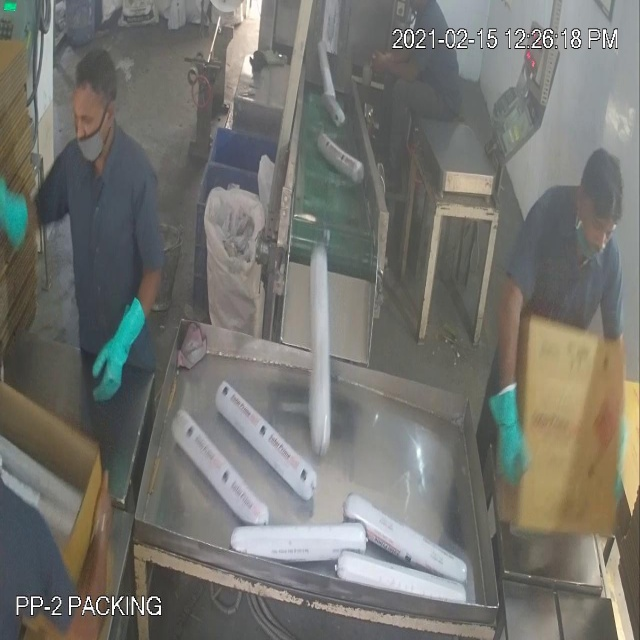Guantes: (75, 295, 155, 424), (490, 370, 534, 498)
Sin_guantes: (371, 42, 428, 98)
